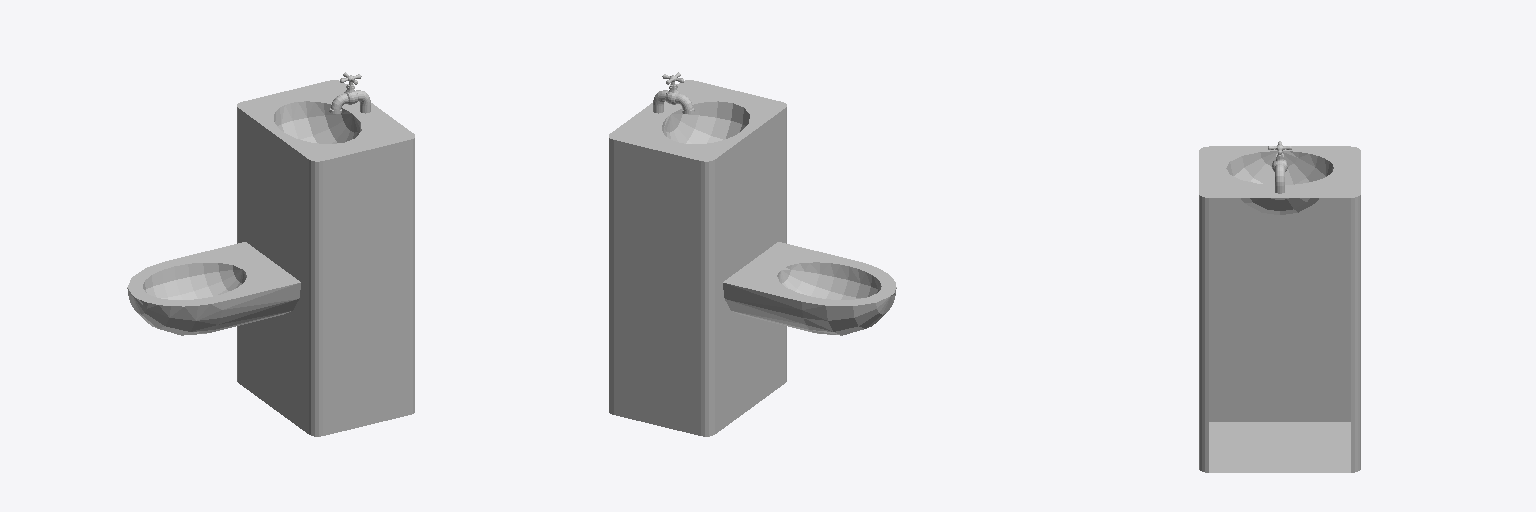
File: Faucet_Sink_Toilet.obj
The picture shows the model from 3 angles: view 1: azimuth 30°, elevation 25°; view 2: azimuth 150°, elevation 25°; view 3: azimuth 270°, elevation 25°; orthographic projection.
Parts seen in each view (by area): view 1: Prison_Cell_toilet___sink_object_3, pSphere3; view 2: Prison_Cell_toilet___sink_object_3, pSphere3; view 3: Prison_Cell_toilet___sink_object_3, pSphere3.
Part boxes in pixels (x1,y1,x2,y2): Prison_Cell_toilet___sink_object_3: (127,80,414,436); pSphere3: (329,72,370,113); Prison_Cell_toilet___sink_object_3: (609,80,896,436); pSphere3: (653,72,694,113); Prison_Cell_toilet___sink_object_3: (1199,146,1360,472); pSphere3: (1268,141,1291,193).
Bounding box in the file's own units: 28 × 34.25 × 16.